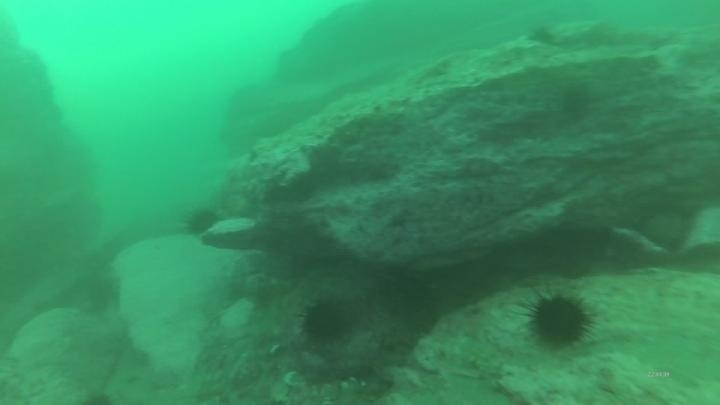echinus: (522, 287, 598, 353), (299, 296, 351, 345), (182, 204, 222, 239)
